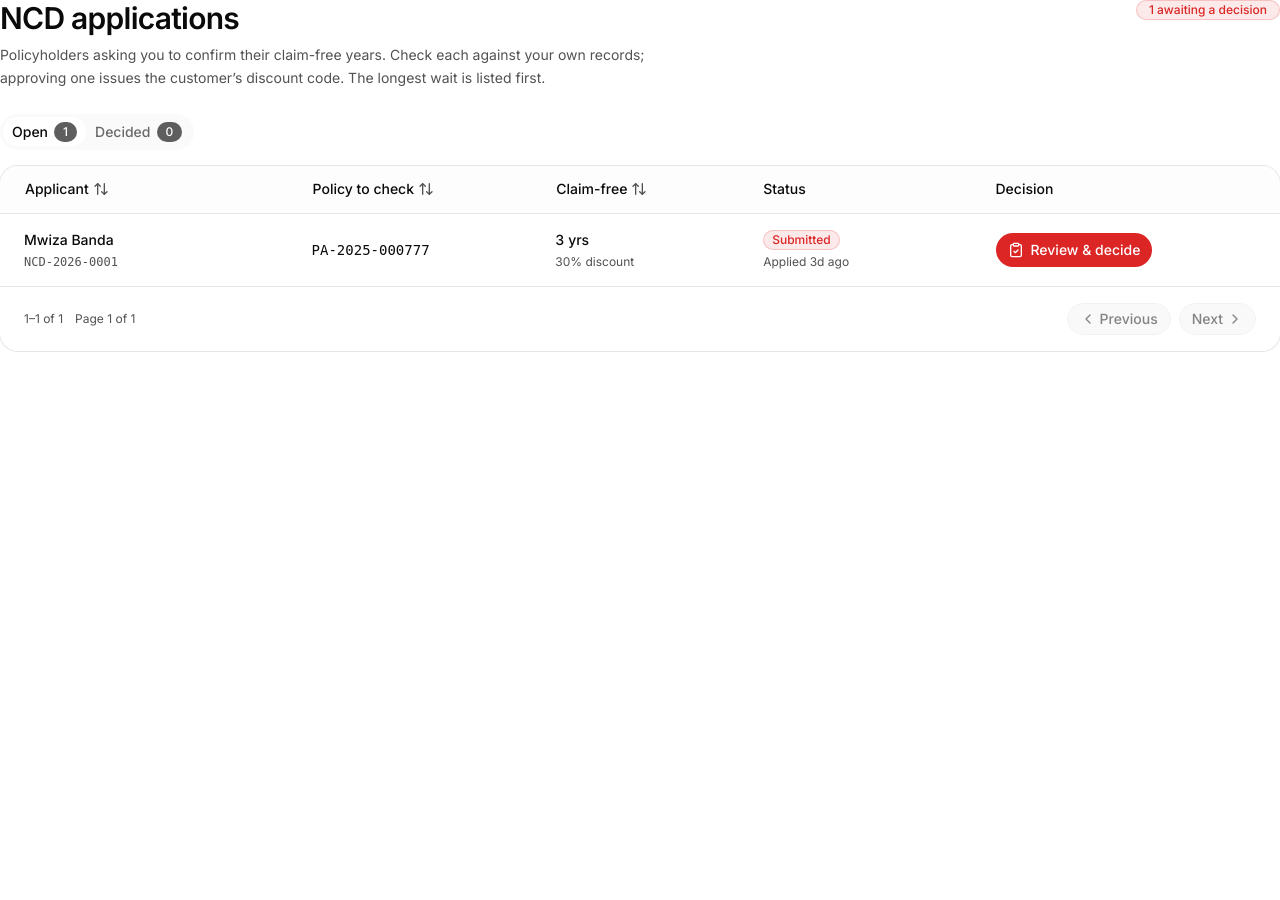
it: NcdTab › puts what to check and every outcome on one surface, and sends nothing until a decision is confirmed
Click the button with aria-label "Review & decide Mwiza Banda’s application".
click(1074, 250)  # box [996,232,1154,268]
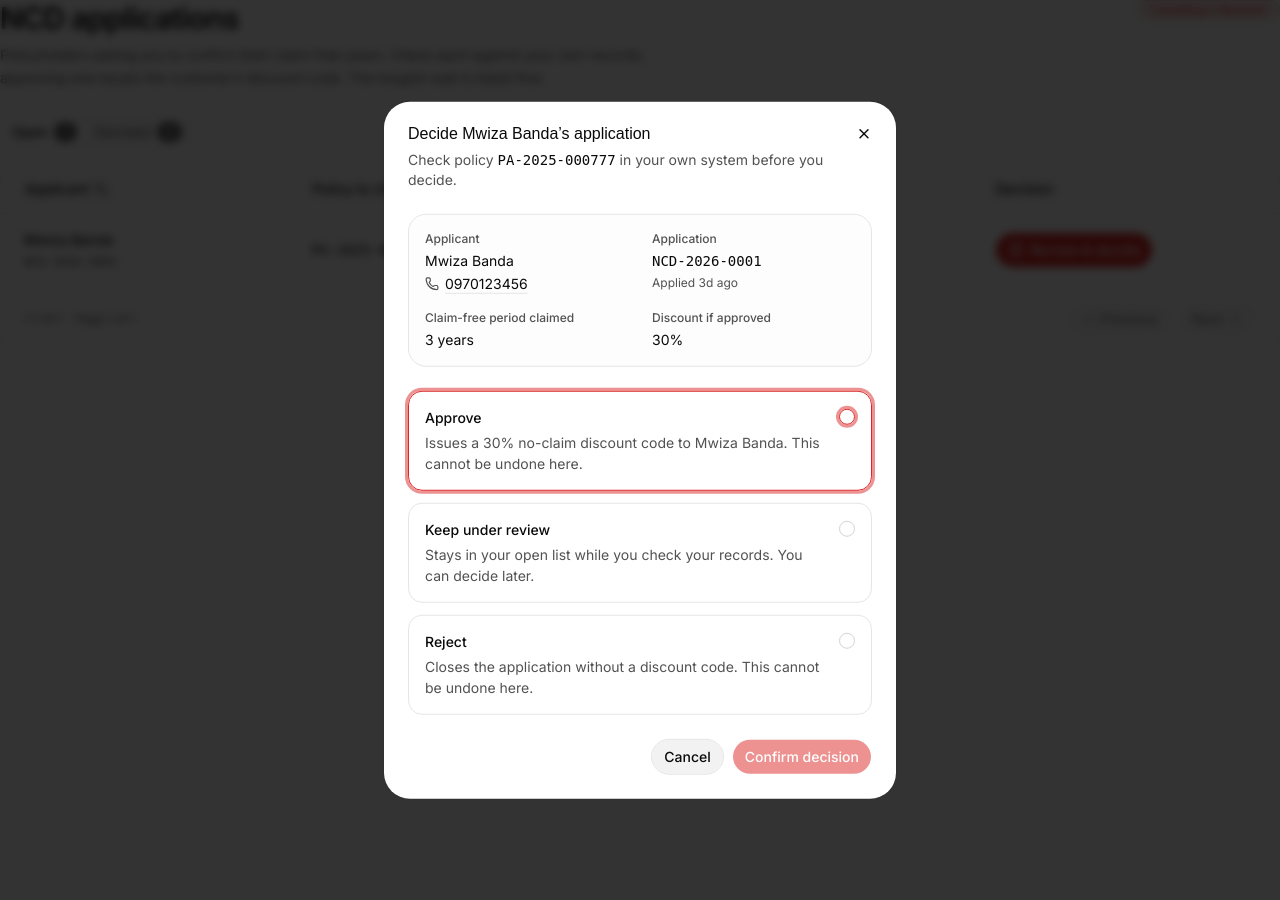
Expected: the dialog "Decide Mwiza Banda’s application" shows "Check policy PA-2025-000777 in your own system", [384,102,896,798]
Expected: the text "PA-2025-000777" is shown, [498,152,616,168]
Expected: the text "3 years" is shown, [425,331,474,348]
Click the button "Cancel".
click(688, 756)  # box [651,738,724,774]
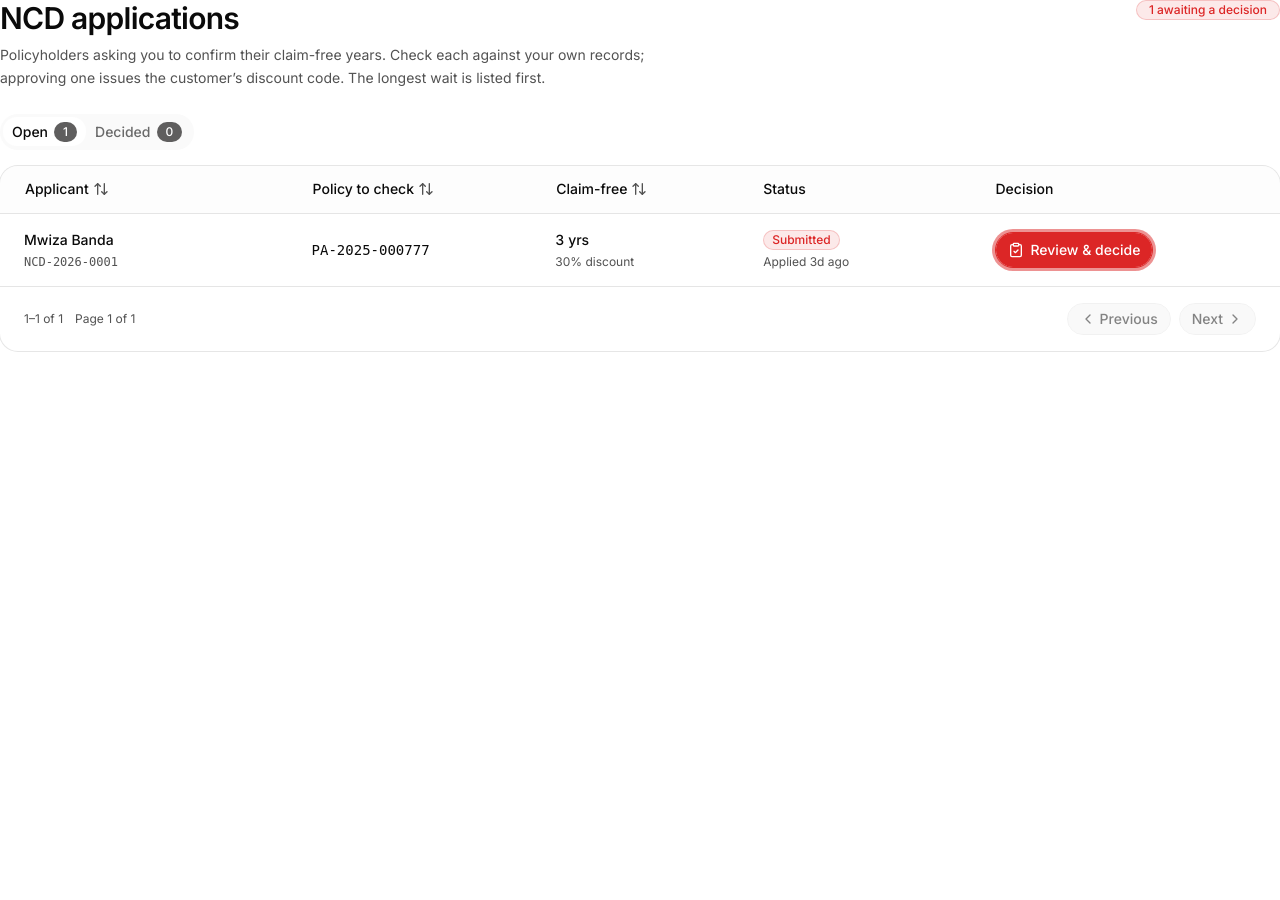
Expected: the dialog is gone
